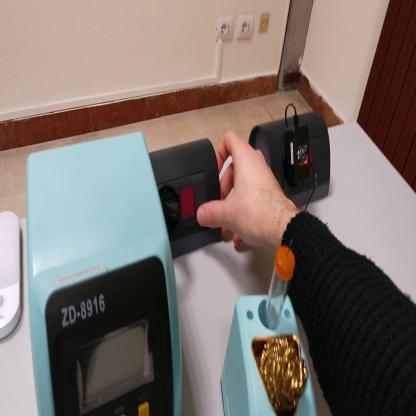hand: (198, 129, 287, 252)
socket: (149, 140, 224, 261), (250, 108, 332, 212)
welder base: (221, 251, 327, 415)
welder station: (27, 135, 184, 416)
